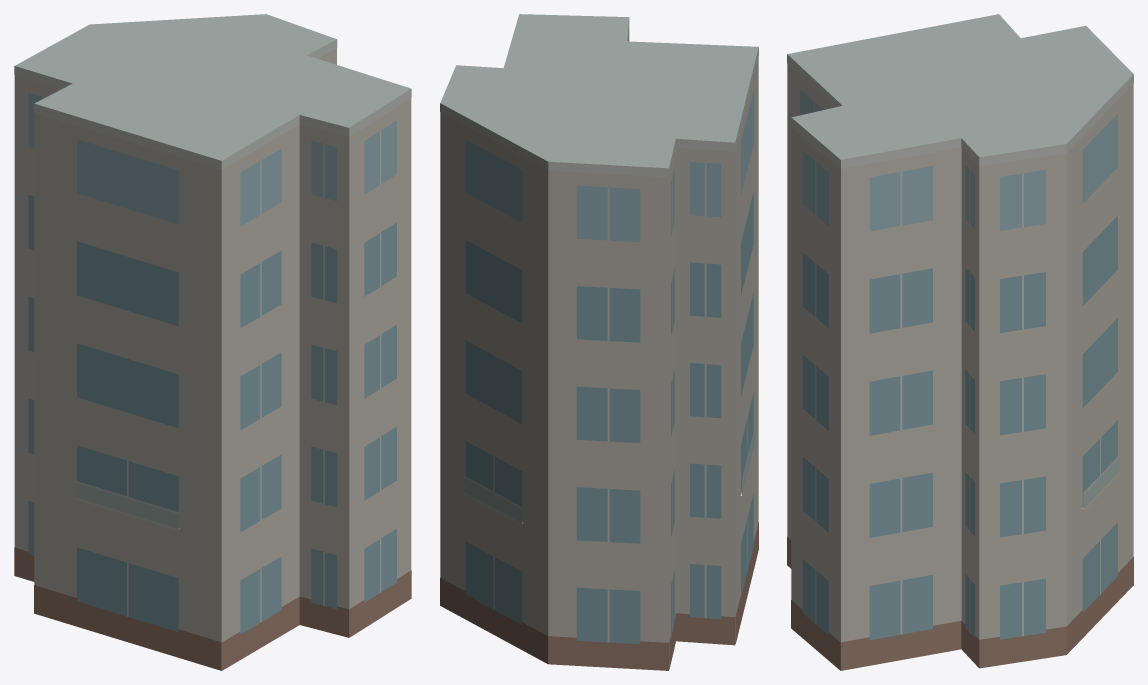
The model's file is survey-upis-33043925.glb.
3 renders of one model, left to right at view 1: azimuth 30°, elevation 25°; view 2: azimuth 150°, elevation 25°; view 3: azimuth 270°, elevation 25°, orthographic.
Parts seen in each view (by area): view 1: survey-upis-33043925.tmp; view 2: survey-upis-33043925.tmp; view 3: survey-upis-33043925.tmp.
Part boxes in pixels (x1=…): survey-upis-33043925.tmp: x1=14, y1=14, x2=411, y2=670; survey-upis-33043925.tmp: x1=440, y1=14, x2=758, y2=670; survey-upis-33043925.tmp: x1=787, y1=14, x2=1133, y2=670.
Bounding box in the file's own units: 8.33 × 13.6 × 8.37.
